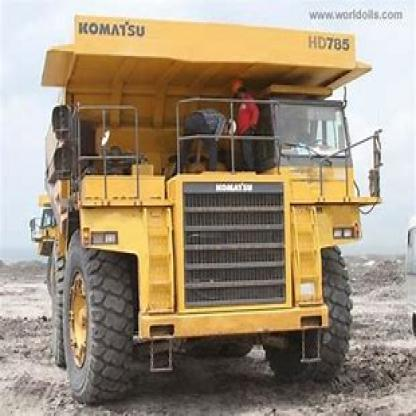dump_truck: (21, 9, 380, 404)
